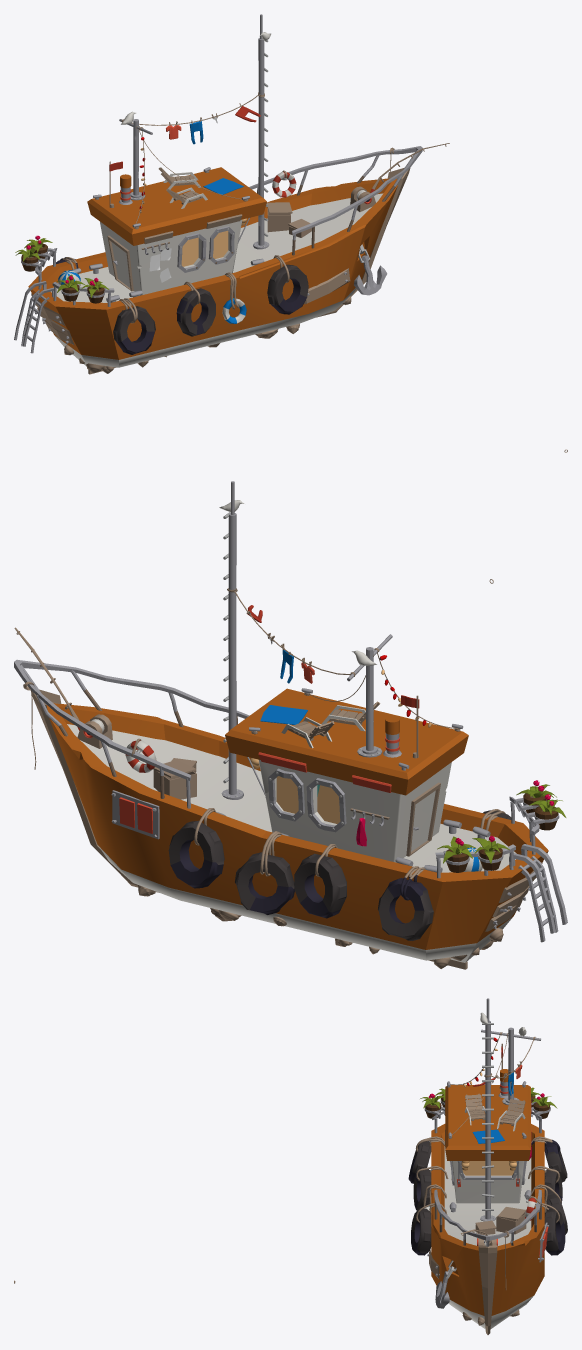
File: MayaBoat.fbx
3 renders of one model, top to bottom at view 1: azimuth 30°, elevation 25°; view 2: azimuth 150°, elevation 25°; view 3: azimuth 270°, elevation 25°, orthographic. The views are drawn at different scales.
Visible parts, largest first — view 1: polySurface208, pCube126, polySurface203, pCylinder427, polySurface202, polySurface205, pCylinder480, pCube114, polySurface206, pCube124, pCube116, pCylinder460; view 2: polySurface208, pCube126, pCylinder427, polySurface203, polySurface202, polySurface205, pCylinder480, pCube115, polySurface206, pCylinder460, polySurface188, pCube117 (+12 smaller); view 3: polySurface208, pCylinder427, pCube126, polySurface202, polySurface203, polySurface206, pCylinder480, polySurface205, pCube146, pCube147.
Part boxes in pixels (x1,y1,x2,y2): polySurface208: [28, 178, 397, 367]; pCube126: [87, 167, 266, 245]; polySurface203: [100, 219, 242, 295]; pCylinder427: [56, 255, 308, 354]; polySurface202: [51, 193, 383, 302]; polySurface205: [249, 146, 422, 235]; pCylinder480: [258, 37, 264, 245]; pCube114: [177, 226, 234, 272]; polySurface206: [88, 168, 410, 374]; pCube124: [354, 255, 387, 295]; pCube116: [304, 268, 350, 304]; pCylinder460: [257, 150, 417, 255]; polySurface208: [46, 703, 548, 962]; pCube126: [225, 688, 468, 795]; pCylinder427: [168, 808, 515, 940]; polySurface203: [258, 760, 451, 862]; polySurface202: [67, 724, 516, 872]; polySurface205: [14, 659, 249, 780]; pCylinder480: [228, 513, 236, 794]; pCube115: [268, 768, 346, 832]; polySurface206: [30, 689, 467, 969]; pCylinder460: [21, 665, 237, 808]; polySurface188: [111, 790, 159, 839]; pCube117: [258, 752, 391, 792]; polySurface208: [431, 1124, 544, 1329]; pCylinder427: [408, 1136, 567, 1255]; pCube126: [445, 1085, 530, 1160]; polySurface202: [444, 1146, 531, 1245]; polySurface203: [451, 1161, 524, 1203]; polySurface206: [478, 1245, 497, 1334]; pCylinder480: [485, 1020, 490, 1219]; polySurface205: [434, 1189, 541, 1240]; pCube146: [497, 1098, 525, 1131]; pCube147: [464, 1093, 485, 1125].
Bounding box in the file's own units: 15.16 × 11.01 × 18.25.
